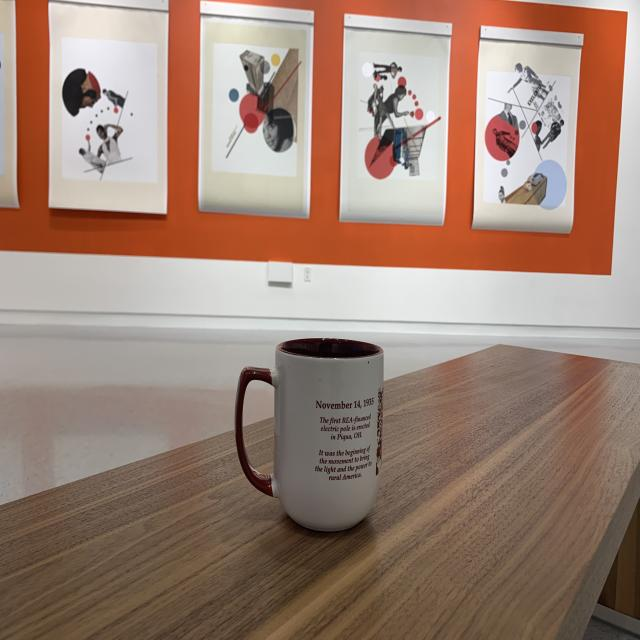Cup: (224, 324, 394, 543)
